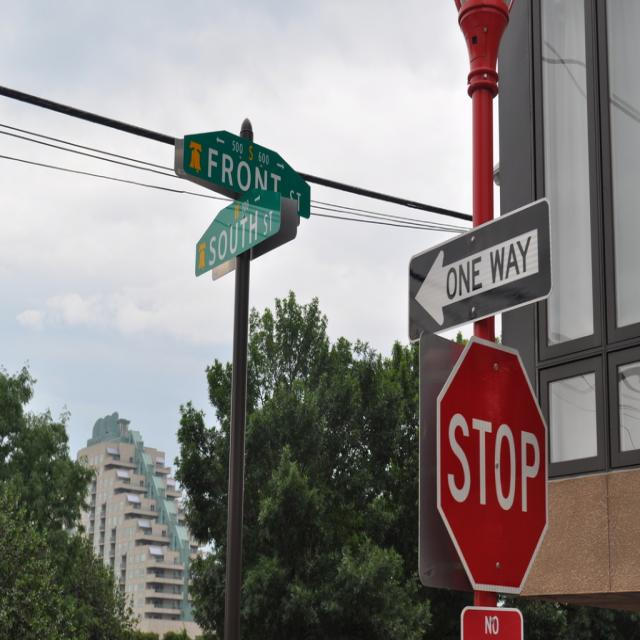Stop-sign: (436, 332, 548, 596)
